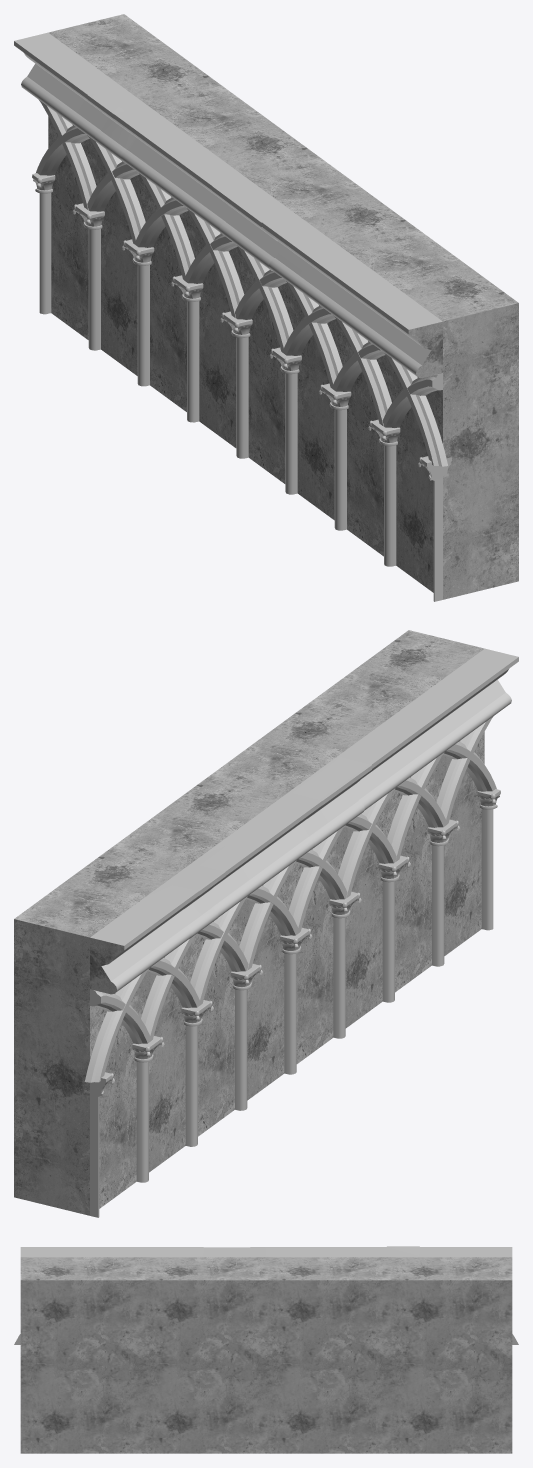
The model's file is SM_TowerWall_03a.fbx.
3 renders of one model, top to bottom at view 1: azimuth 30°, elevation 25°; view 2: azimuth 150°, elevation 25°; view 3: azimuth 270°, elevation 25°, orthographic. The views are drawn at different scales.
Parts seen in each view (by area): view 1: SM_TowerWall_03a_LOD0; view 2: SM_TowerWall_03a_LOD0; view 3: SM_TowerWall_03a_LOD0.
Part boxes in pixels (left/top/right/bottom): SM_TowerWall_03a_LOD0: left=14, top=14, right=518, bottom=601; SM_TowerWall_03a_LOD0: left=14, top=630, right=518, bottom=1217; SM_TowerWall_03a_LOD0: left=14, top=1246, right=518, bottom=1453.
Bounding box in the file's own units: 293 × 1848 × 702.
